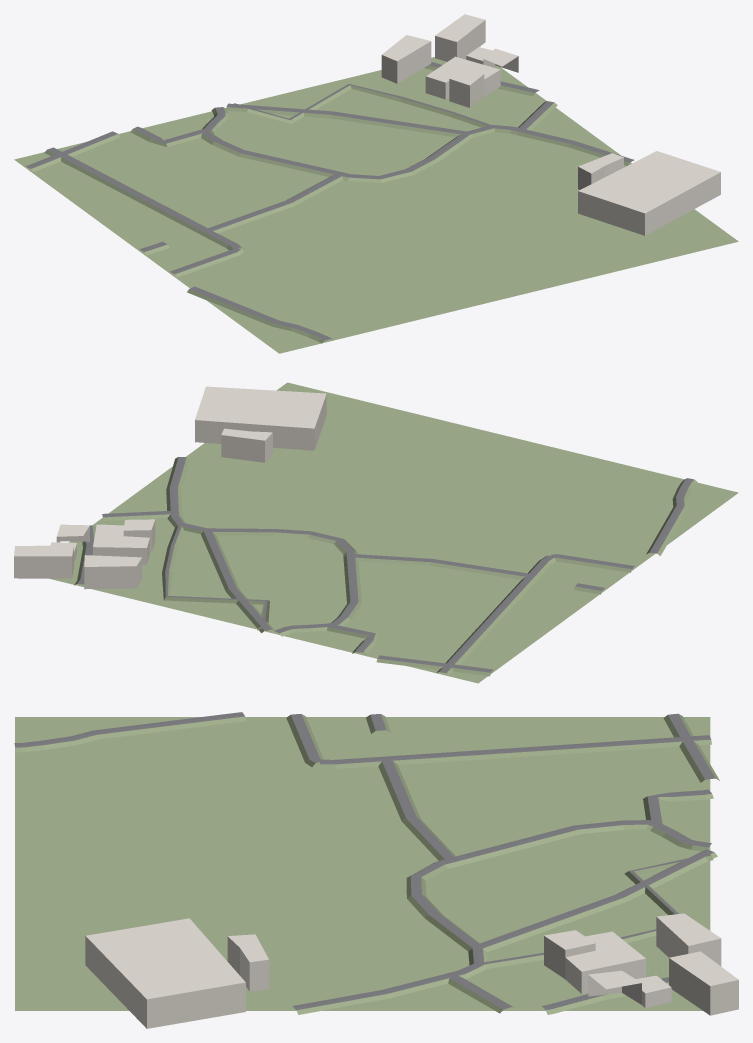
Rendered from dhamrai_chunk_x-1_z0.glb.
The picture shows the model from 3 angles, top to bottom: view 1: azimuth 30°, elevation 25°; view 2: azimuth 150°, elevation 25°; view 3: azimuth 270°, elevation 25°; orthographic projection. The views are drawn at different scales.
Parts seen in each view (by area): view 1: terrain, buildings, roads, embankments; view 2: terrain, buildings, roads, embankments; view 3: terrain, buildings, roads, embankments.
Part boxes in pixels (x1=…): terrain: x1=14, y1=57, x2=738, y2=353; buildings: x1=381, y1=14, x2=720, y2=235; roads: x1=25, y1=62, x2=634, y2=340; embankments: x1=31, y1=65, x2=629, y2=343; terrain: x1=49, y1=382, x2=738, y2=683; buildings: x1=14, y1=386, x2=326, y2=589; roads: x1=77, y1=457, x2=694, y2=673; embankments: x1=74, y1=457, x2=697, y2=676; terrain: x1=15, y1=717, x2=710, y2=1010; buildings: x1=85, y1=913, x2=738, y2=1028; roads: x1=14, y1=712, x2=715, y2=1010; embankments: x1=15, y1=714, x2=719, y2=1014.
Size of the model in its own units: 278 by 13.23 by 267.
